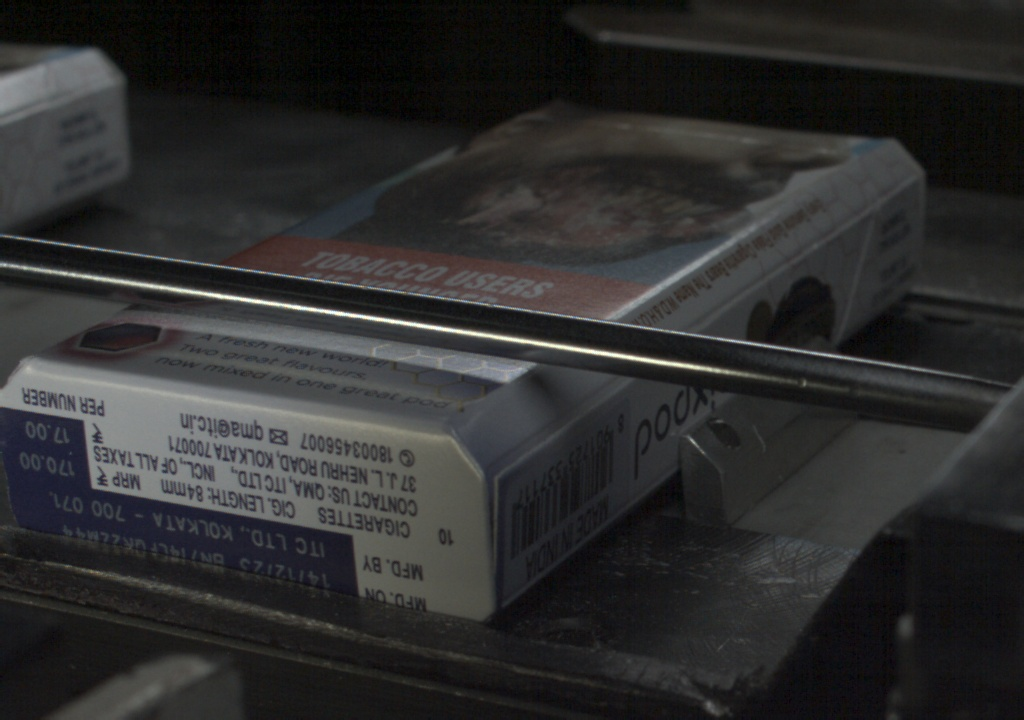g_bottom: (1, 358, 494, 630)
g_label: (2, 487, 356, 599)
g_lmiter: (495, 420, 577, 481), (782, 213, 869, 269), (697, 271, 777, 330), (566, 379, 632, 433)
g_miter: (874, 173, 921, 210)
price: (3, 411, 89, 487)
